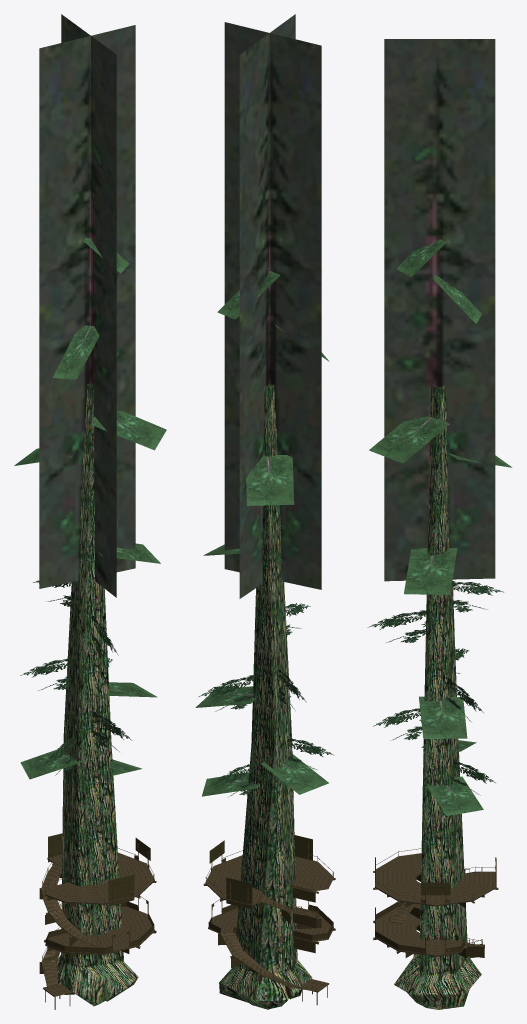
File: thm_endr_village_tree_s01_l2.fbx
The picture shows the model from 3 angles, left to right: view 1: azimuth 30°, elevation 25°; view 2: azimuth 150°, elevation 25°; view 3: azimuth 270°, elevation 25°; orthographic projection.
Parts seen in each view (by area): view 1: mesh_node; view 2: mesh_node; view 3: mesh_node.
Boxes of the visible parts, x1=… form: mesh_node: x1=14, y1=14, x2=166, y2=1009; mesh_node: x1=195, y1=14, x2=335, y2=1009; mesh_node: x1=367, y1=39, x2=512, y2=1009.
Size of the model in its own units: 25.18 by 192 by 26.44.
